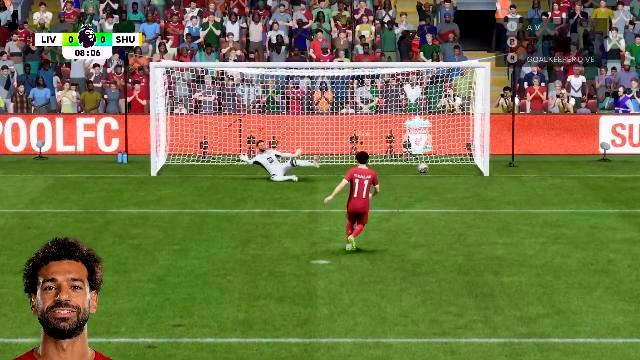bottom-left: (157, 121, 260, 180)
bottom-right: (374, 120, 484, 172)
center-down: (262, 120, 372, 178)
center-up: (262, 68, 372, 120)
football: (417, 162, 431, 172)
goalkeeper: (239, 140, 321, 182)
player: (329, 154, 388, 254)
top-left: (157, 68, 261, 120)
top-right: (374, 68, 484, 119)
